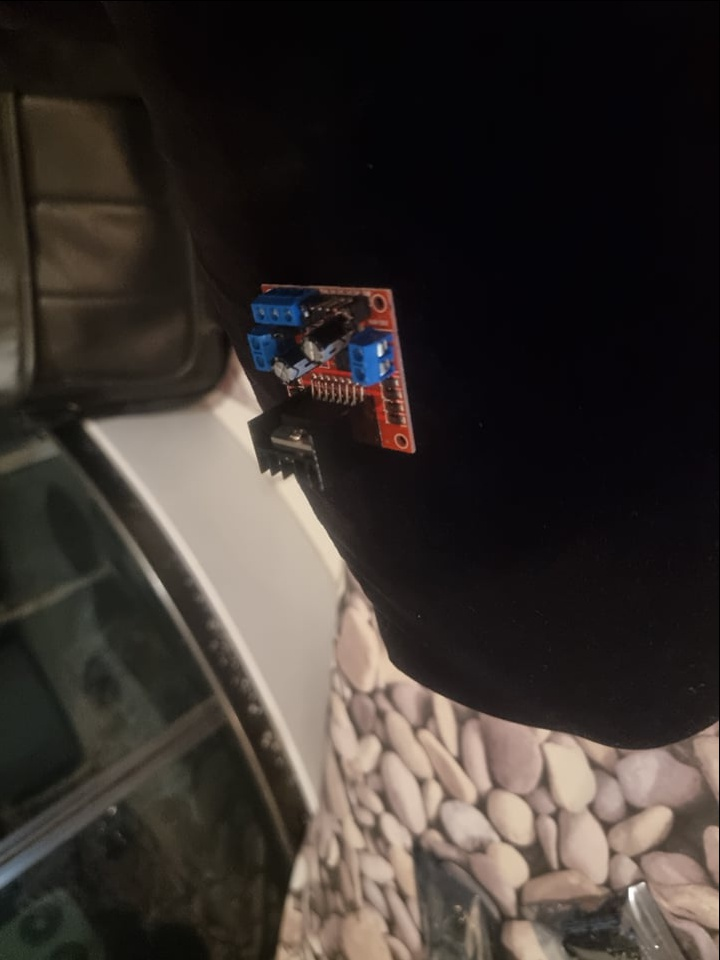MOTOR: (243, 281, 419, 490)
